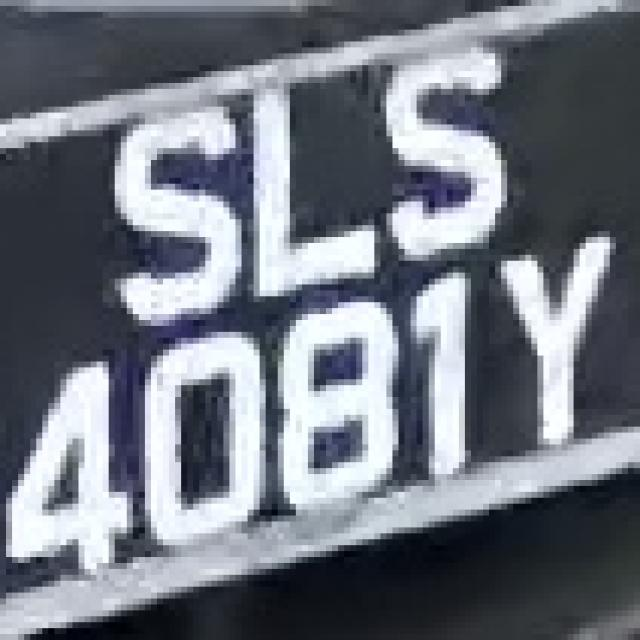0: (133, 344, 278, 539)
1: (405, 249, 489, 504)
4: (6, 344, 121, 598)
8: (272, 273, 404, 522)
L: (224, 71, 392, 302)
S: (362, 23, 520, 260), (102, 71, 242, 338)
Y: (483, 208, 604, 468)
